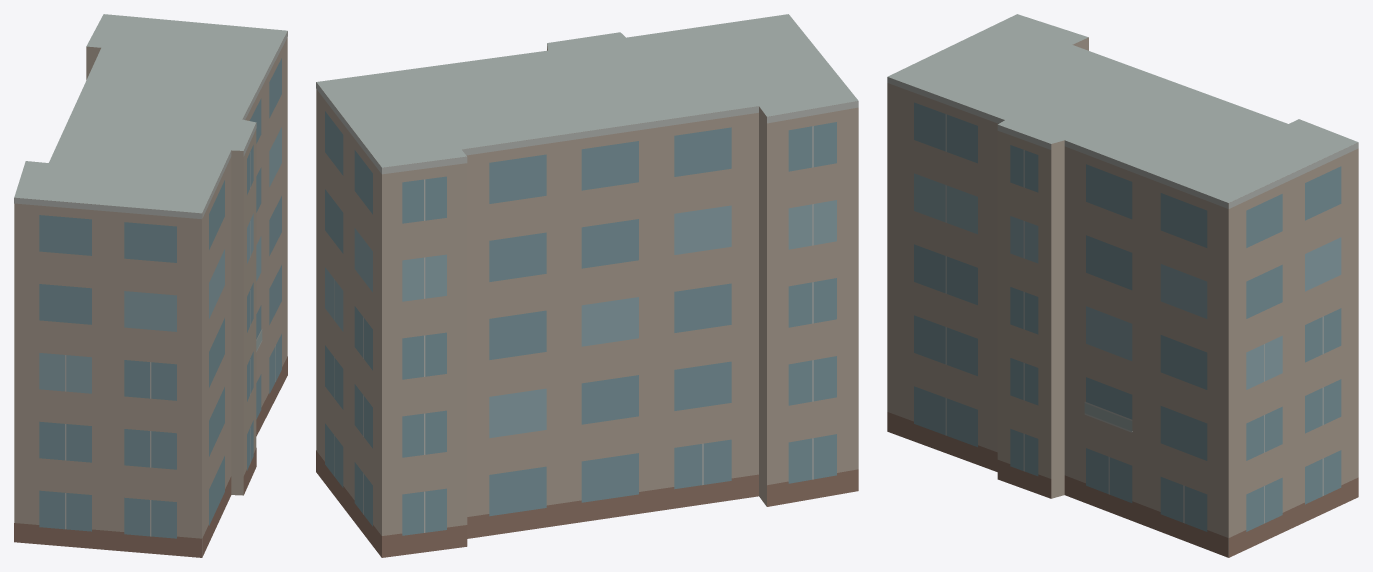
File: survey-upis-33003450.glb
3 renders of one model, left to right at view 1: azimuth 30°, elevation 25°; view 2: azimuth 150°, elevation 25°; view 3: azimuth 270°, elevation 25°, orthographic. The views are drawn at different scales.
Parts seen in each view (by area): view 1: survey-upis-33003450.tmp; view 2: survey-upis-33003450.tmp; view 3: survey-upis-33003450.tmp.
Part boxes in pixels (x1,y1,x2,y2): survey-upis-33003450.tmp: (14,14,287,557); survey-upis-33003450.tmp: (316,14,858,557); survey-upis-33003450.tmp: (887,14,1358,557).
Bounding box in the file's own units: 16.35 × 14.3 × 17.23.
